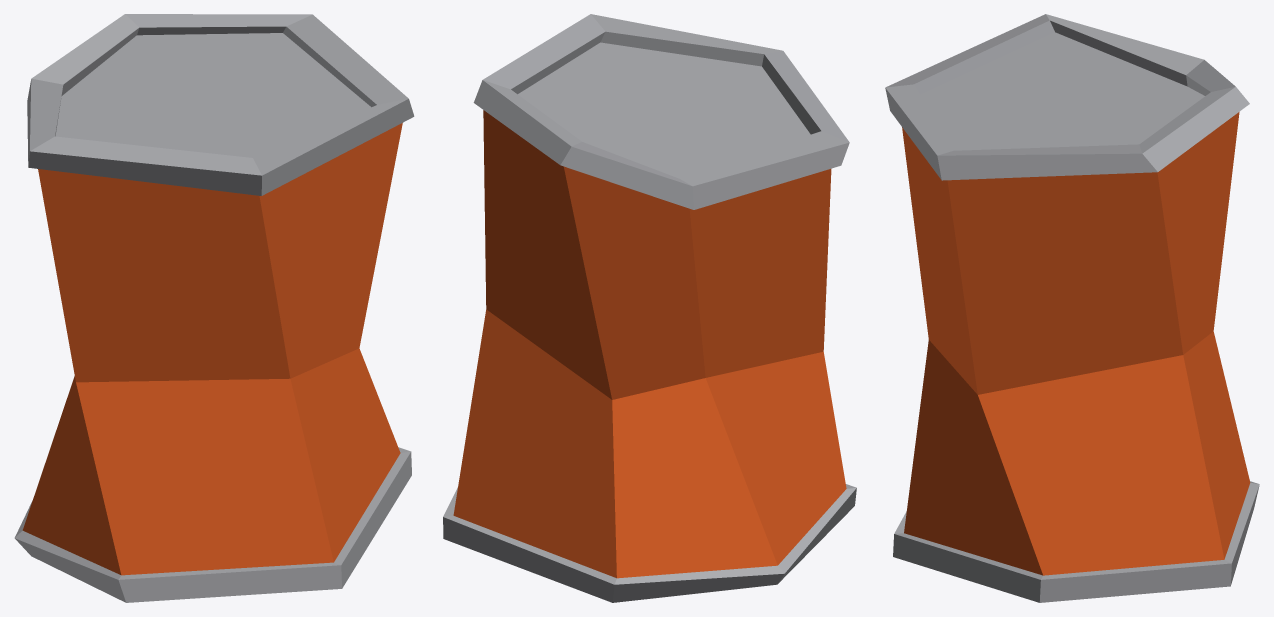
The model's file is Can_Damaged.fbx.
3 renders of one model, left to right at view 1: azimuth 30°, elevation 25°; view 2: azimuth 150°, elevation 25°; view 3: azimuth 270°, elevation 25°, orthographic. The views are drawn at different scales.
Parts seen in each view (by area): view 1: Can [Damaged]; view 2: Can [Damaged]; view 3: Can [Damaged].
Part boxes in pixels (<box>): Can [Damaged]: <box>14,14,414,602</box>; Can [Damaged]: <box>443,14,856,602</box>; Can [Damaged]: <box>885,14,1259,602</box>.
Size of the model in its own units: 10.96 by 12.73 by 9.54.
